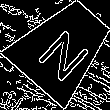N_NE: (31, 16, 95, 80)
